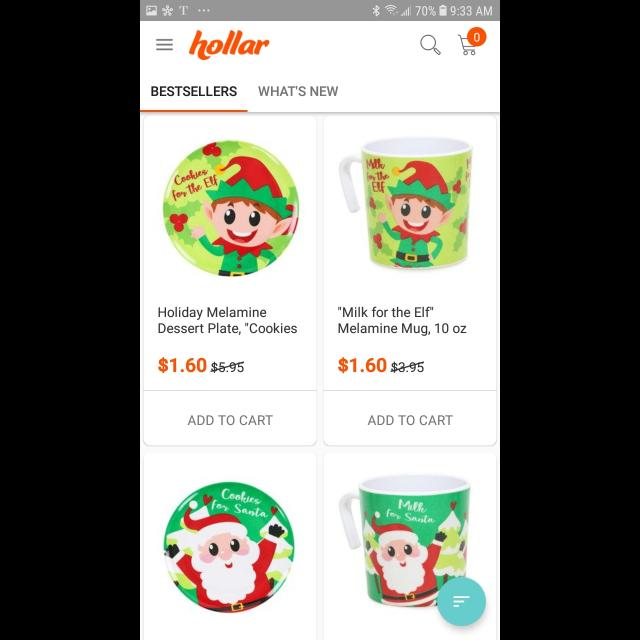icon: (438, 578, 487, 626), (458, 28, 487, 56), (420, 34, 440, 56), (156, 39, 174, 51)
image: (164, 140, 300, 276), (339, 137, 473, 271), (339, 473, 471, 607), (163, 482, 294, 614), (190, 31, 270, 61)
text: (158, 306, 298, 336), (338, 306, 467, 336), (151, 86, 237, 98), (258, 85, 338, 96), (338, 358, 387, 374), (158, 358, 206, 374), (391, 361, 425, 373), (211, 361, 245, 373)
textbutton: (143, 390, 317, 446), (323, 392, 497, 446)
uppertaskbar: (140, 1, 500, 22)
